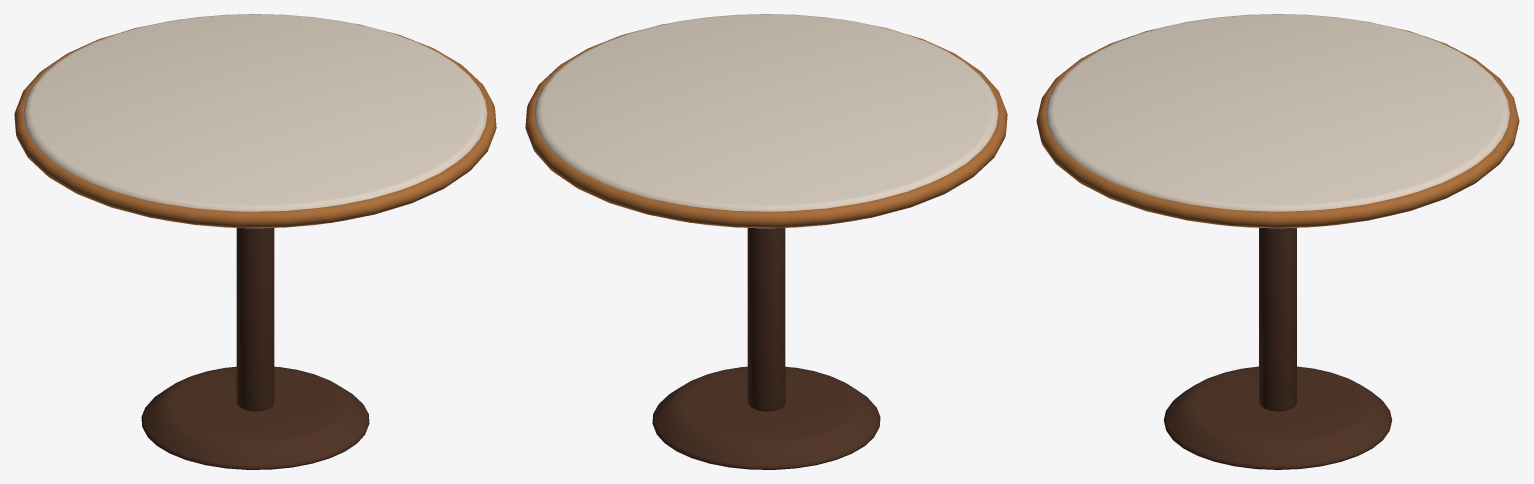
The model's file is table_vieille.glb.
The picture shows the model from 3 angles, left to right: view 1: azimuth 30°, elevation 25°; view 2: azimuth 150°, elevation 25°; view 3: azimuth 270°, elevation 25°; orthographic projection.
Parts seen in each view (by area): view 1: plateau, base, bord, pied; view 2: plateau, base, bord, pied; view 3: plateau, base, bord, pied.
Part boxes in pixels (left/top/right/bottom): plateau: left=23, top=14, right=487, bottom=228; base: left=141, top=366, right=369, bottom=469; bord: left=14, top=19, right=496, bottom=227; pied: left=236, top=228, right=274, bottom=411; plateau: left=534, top=14, right=998, bottom=228; base: left=652, top=366, right=880, bottom=469; bord: left=525, top=19, right=1007, bottom=227; pied: left=747, top=228, right=785, bottom=411; plateau: left=1046, top=14, right=1509, bottom=228; base: left=1163, top=366, right=1392, bottom=469; bord: left=1036, top=22, right=1519, bottom=227; pied: left=1259, top=228, right=1296, bottom=411.
Size of the model in its own units: 1.14 by 0.815 by 1.14.
